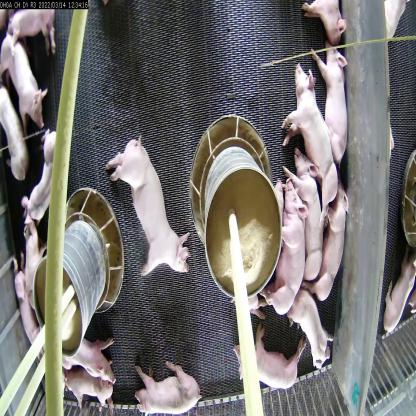Pig: (108, 132, 188, 278), (278, 59, 340, 207), (229, 319, 309, 413), (260, 178, 305, 310), (283, 142, 324, 285), (318, 44, 353, 188), (130, 356, 212, 416), (0, 32, 43, 139), (279, 286, 328, 374), (317, 183, 349, 314), (25, 121, 63, 223), (0, 70, 26, 196), (52, 365, 113, 416), (62, 346, 125, 393), (17, 200, 41, 317)
